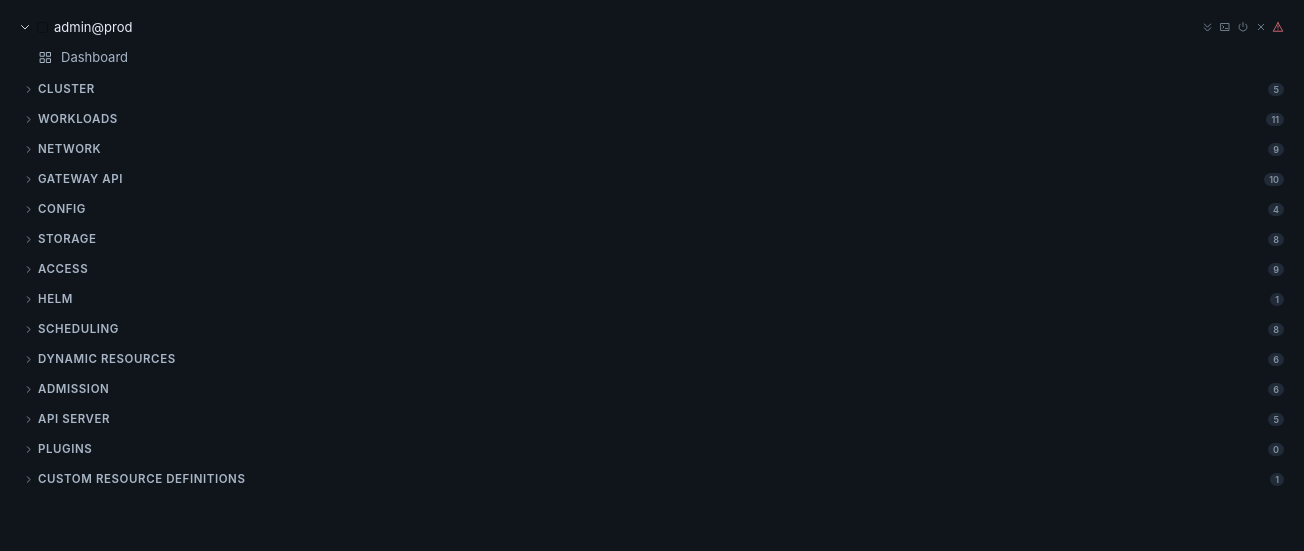
Test: having none reads differently from having failed
Click the button with class "group" showing "Custom Resource Definitions 1" at [142, 479], box 12,468 -> 1292,490
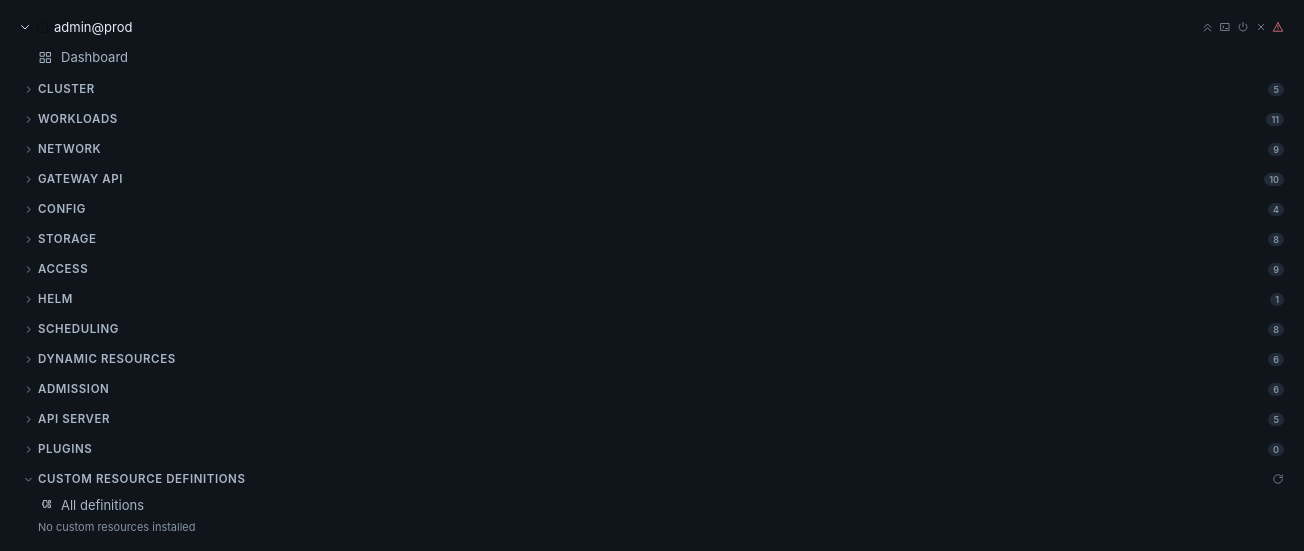
Expected: the text with class "note" shows "No custom resources", 38,520 -> 196,534
